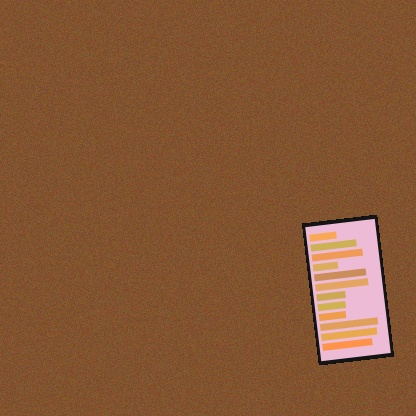cell_phone: (302, 214, 394, 365)
